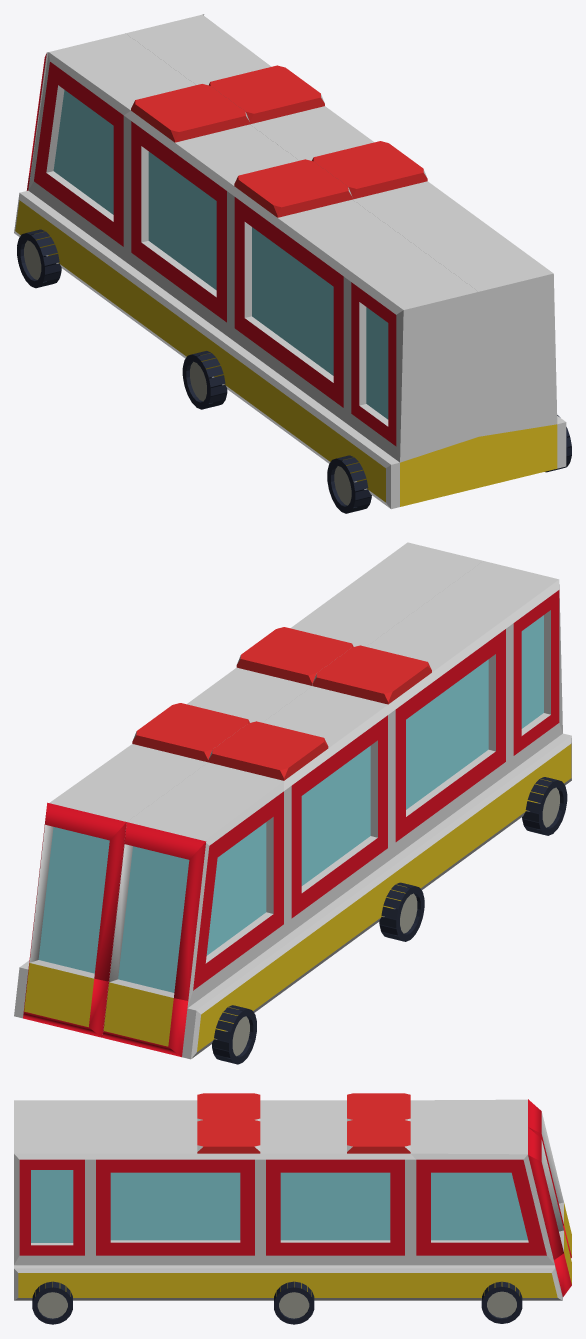
File: busgithub.glb
3 views of the same model, one above another, from view 1: azimuth 30°, elevation 25°; view 2: azimuth 150°, elevation 25°; view 3: azimuth 270°, elevation 25° (orthographic). The views are drawn at different scales.
Parts seen in each view (by area): view 1: busaction; view 2: busaction; view 3: busaction.
Boxes of the visible parts, bbox=[...] form: busaction: bbox=[14, 14, 571, 513]; busaction: bbox=[14, 542, 571, 1064]; busaction: bbox=[14, 1093, 571, 1324].
Size of the model in its own units: 0.4886 by 0.5084 by 1.54.
